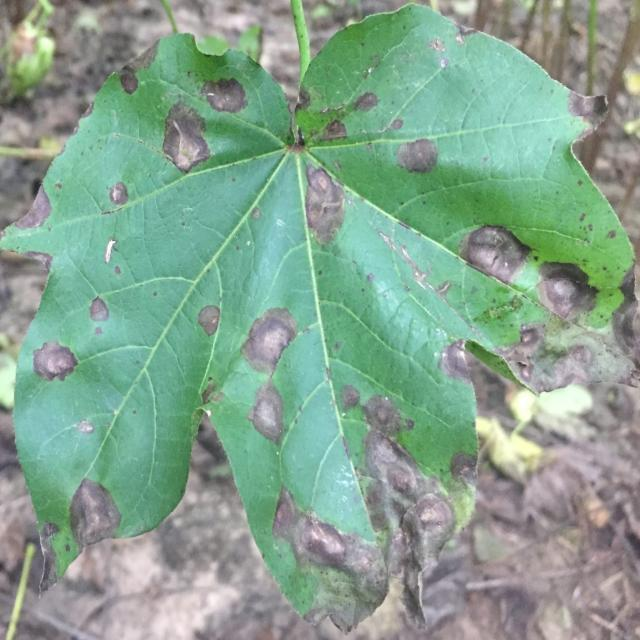Cotton Ball Rot: (238, 305, 300, 379), (159, 99, 214, 178), (29, 339, 80, 386), (393, 136, 441, 180)
Target Spot: (4, 5, 636, 635), (300, 162, 349, 249)
